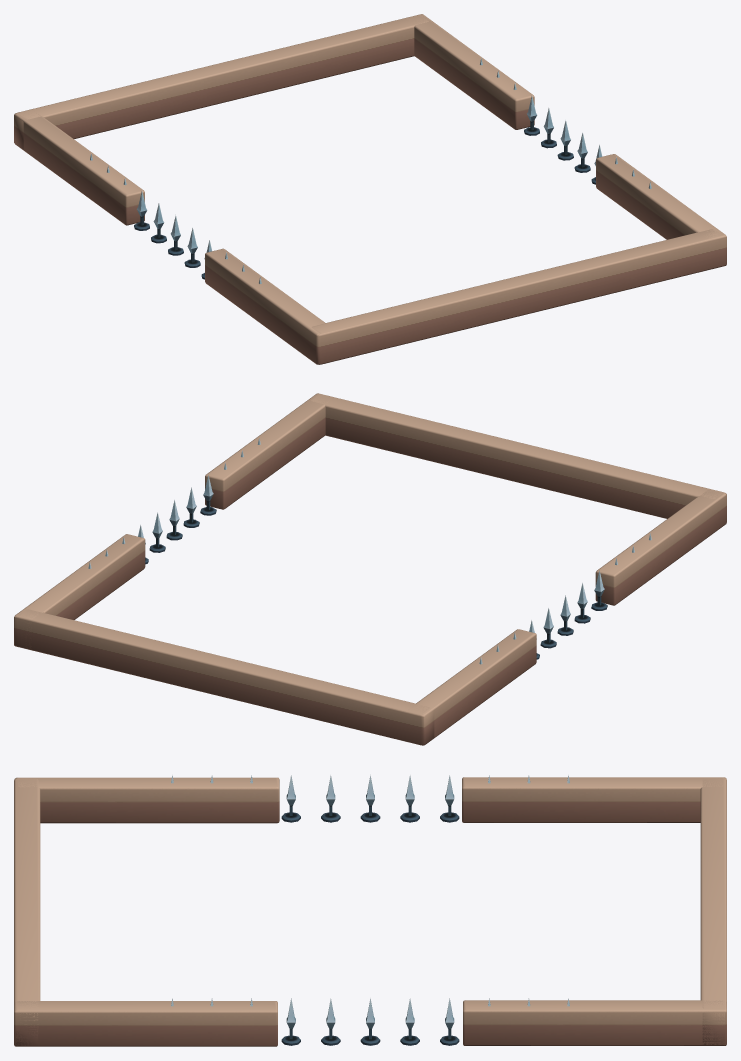
Rendered from Props.fbx.
The picture shows the model from 3 angles, top to bottom: view 1: azimuth 30°, elevation 25°; view 2: azimuth 150°, elevation 25°; view 3: azimuth 270°, elevation 25°; orthographic projection. The views are drawn at different scales.
Visible parts, largest first — view 1: Box20-3_1 (3), Box20-3_1 (2), Box20-3_2 (3), Box20-3_2 (5), Box20-3_2 (1), Box20-3_2 (7); view 2: Box20-3_1 (2), Box20-3_1 (3), Box20-3_2 (1), Box20-3_2 (7), Box20-3_2 (5), Box20-3_2 (3); view 3: Box20-3_2 (7), Box20-3_2 (3), Box20-3_2 (1), Box20-3_2 (5), Box20-3_1 (2), Box20-3_1 (3).
Part boxes in pixels (x1,y1,x2,y2): Box20-3_1 (3): (311,229,724,364); Box20-3_1 (2): (14,15,428,149); Box20-3_2 (3): (406,14,534,129); Box20-3_2 (5): (14,110,144,225); Box20-3_2 (1): (205,248,325,364); Box20-3_2 (7): (596,154,726,269); Box20-3_1 (2): (16,609,434,745); Box20-3_1 (3): (311,394,726,518); Box20-3_2 (1): (595,489,726,605); Box20-3_2 (7): (205,393,333,509); Box20-3_2 (5): (408,629,536,745); Box20-3_2 (3): (14,534,145,648); Box20-3_2 (7): (14,1001,277,1046); Box20-3_2 (3): (463,1000,726,1045); Box20-3_2 (1): (16,777,279,823); Box20-3_2 (5): (462,777,724,822); Box20-3_1 (2): (700,777,726,1044); Box20-3_1 (3): (14,778,40,1045).
Size of the model in its own units: 21.05 by 1.85 by 27.
Materials: 2 (2 with a texture image).
